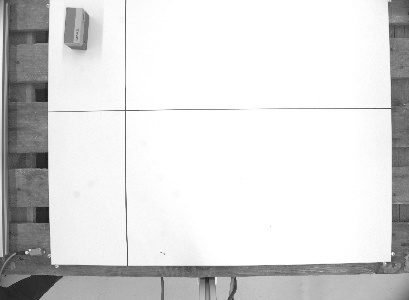b3: (60, 5, 90, 52)
